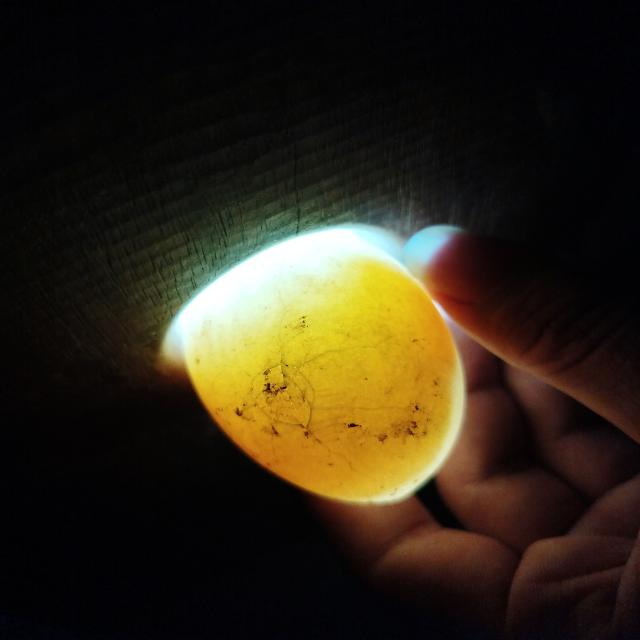Rachadura: (237, 343, 410, 471)
